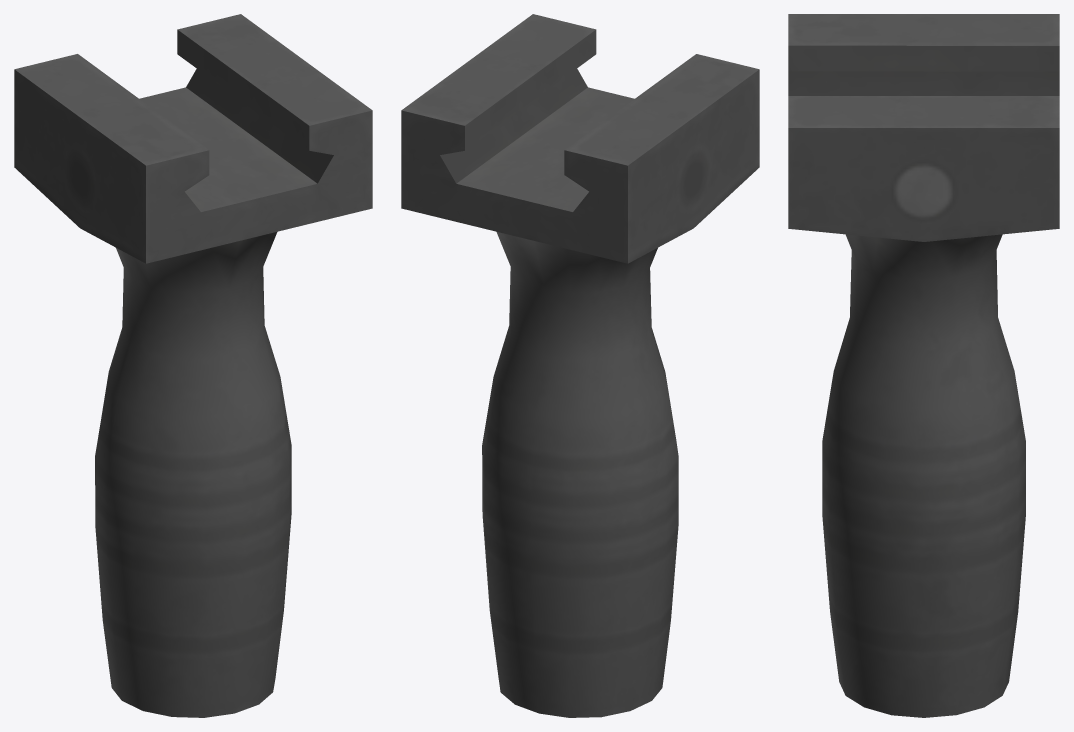
The model's file is IG_Acc_Grip_ALL_REC_1.fbx.
The picture shows the model from 3 angles, left to right: view 1: azimuth 30°, elevation 25°; view 2: azimuth 150°, elevation 25°; view 3: azimuth 270°, elevation 25°; orthographic projection. The views are drawn at different scales.
Parts seen in each view (by area): view 1: Acc_Grip_ALL_REC_1; view 2: Acc_Grip_ALL_REC_1; view 3: Acc_Grip_ALL_REC_1.
Part boxes in pixels (box(x1,y1,x2,y2)): Acc_Grip_ALL_REC_1: box(14, 14, 372, 717); Acc_Grip_ALL_REC_1: box(401, 14, 759, 717); Acc_Grip_ALL_REC_1: box(788, 14, 1059, 717).
Bounding box in the file's own units: 0.0885 × 0.2215 × 0.0891.
